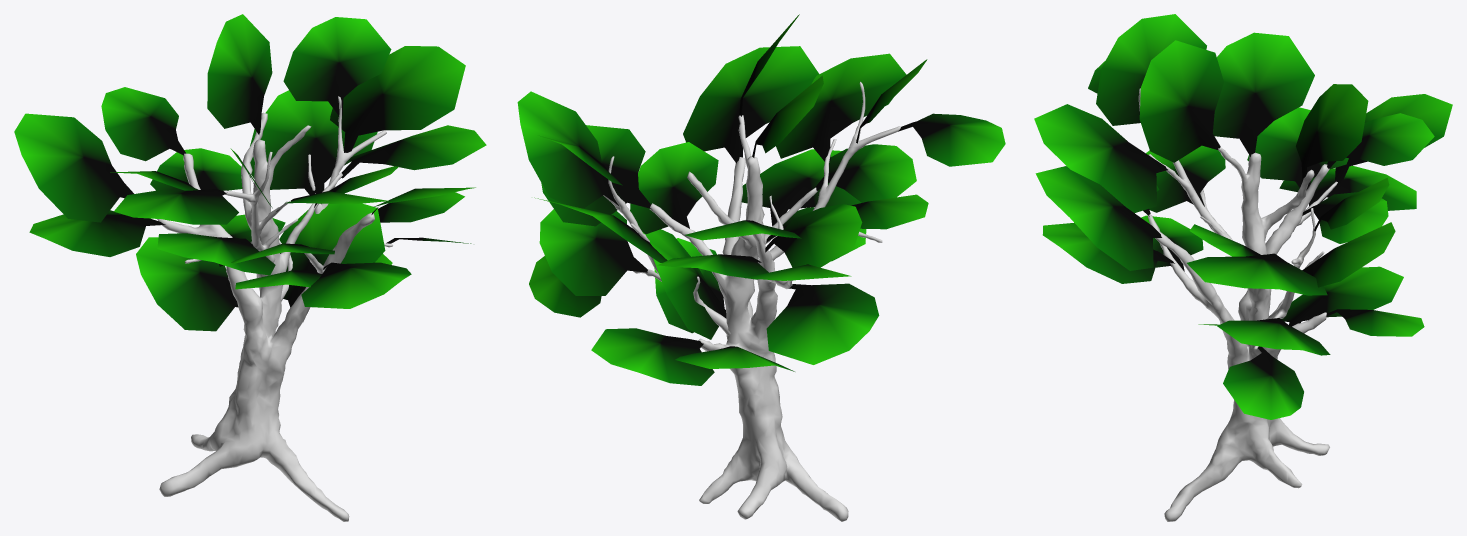
File: tree_3_large.glb
3 views of the same model, side by side, from view 1: azimuth 30°, elevation 25°; view 2: azimuth 150°, elevation 25°; view 3: azimuth 270°, elevation 25° (orthographic). The views are drawn at different scales.
Visible parts, largest first — view 1: tree_3_large; view 2: tree_3_large; view 3: tree_3_large.
Boxes of the visible parts, left/top/right/bottom form: tree_3_large: left=14, top=14, right=486, bottom=521; tree_3_large: left=517, top=14, right=1005, bottom=521; tree_3_large: left=1034, top=14, right=1452, bottom=521.
Bounding box in the file's own units: 3.71 × 4.07 × 3.36.
